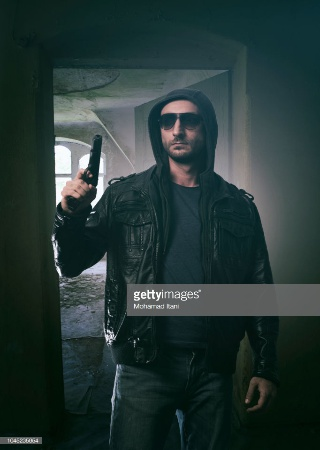handgun: (81, 131, 105, 189)
